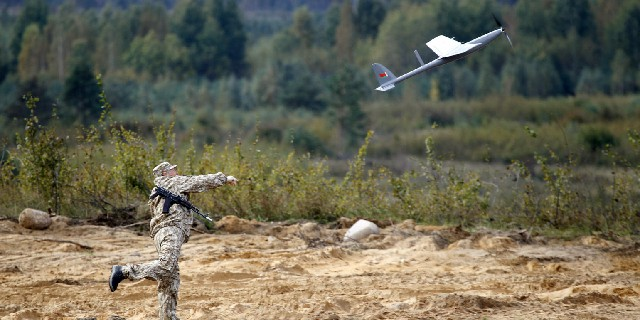maybay_khongnguoilai: (367, 21, 514, 94)
